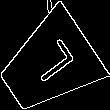L_SW: (21, 38, 76, 92)
